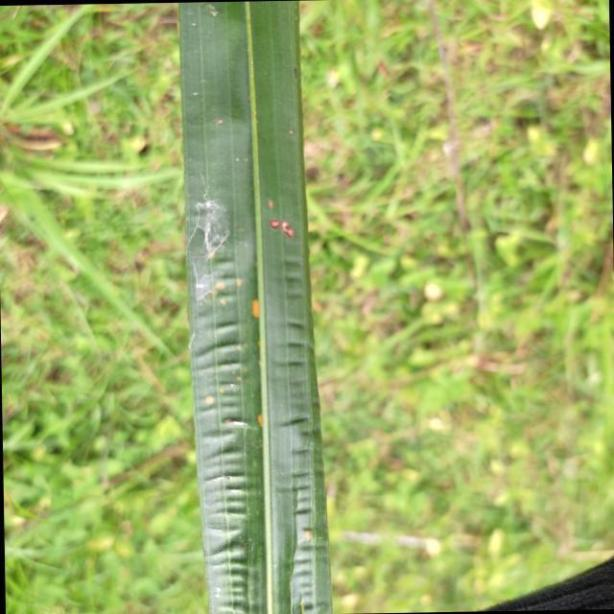Boron: (174, 5, 328, 614)
